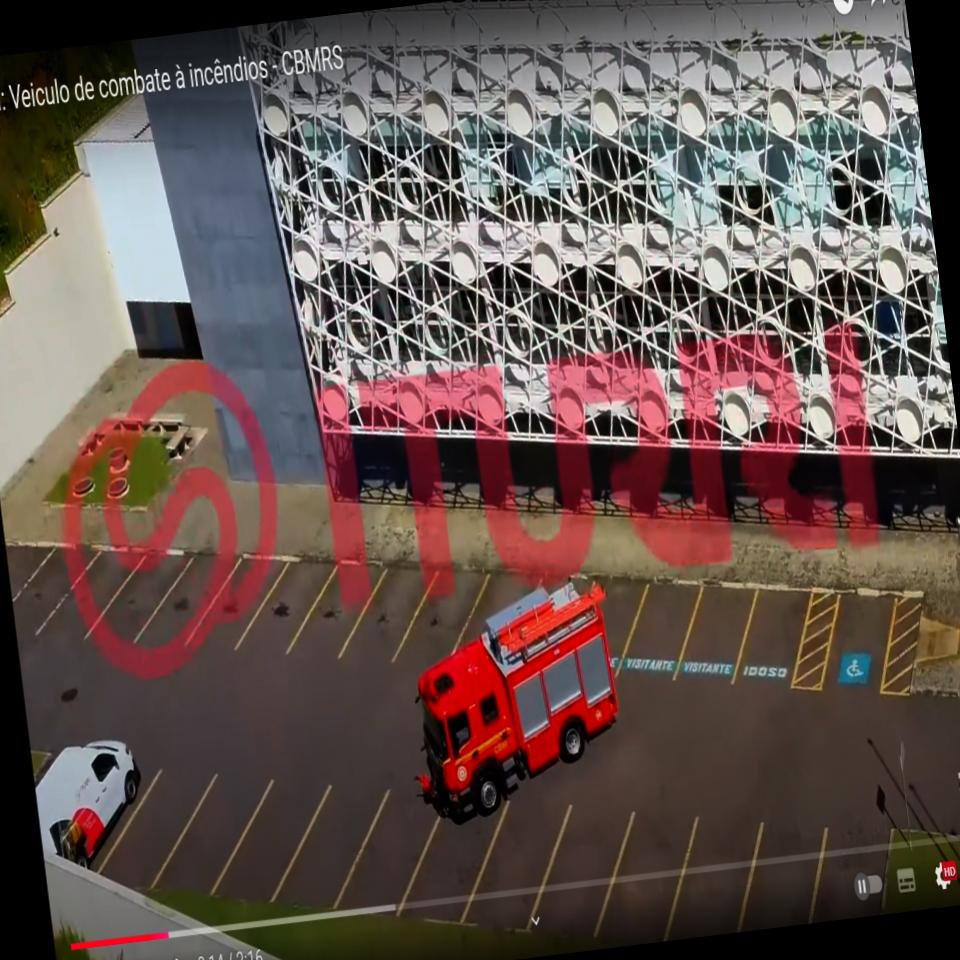viatura: (394, 567, 635, 829)
